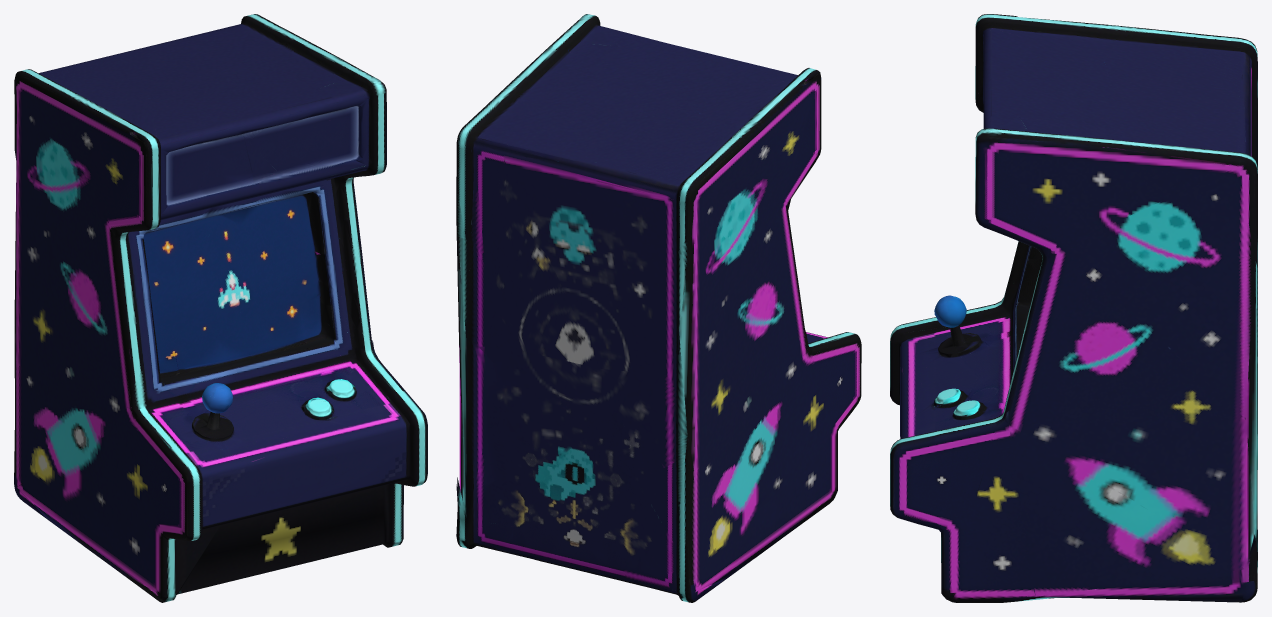
Rendered from maquina-fondo-naves.glb.
3 renders of one model, left to right at view 1: azimuth 30°, elevation 25°; view 2: azimuth 150°, elevation 25°; view 3: azimuth 270°, elevation 25°, orthographic. The views are drawn at different scales.
Size of the model in its own units: 1.12 by 2 by 1.42.
Materials: 1 (1 with a texture image).
